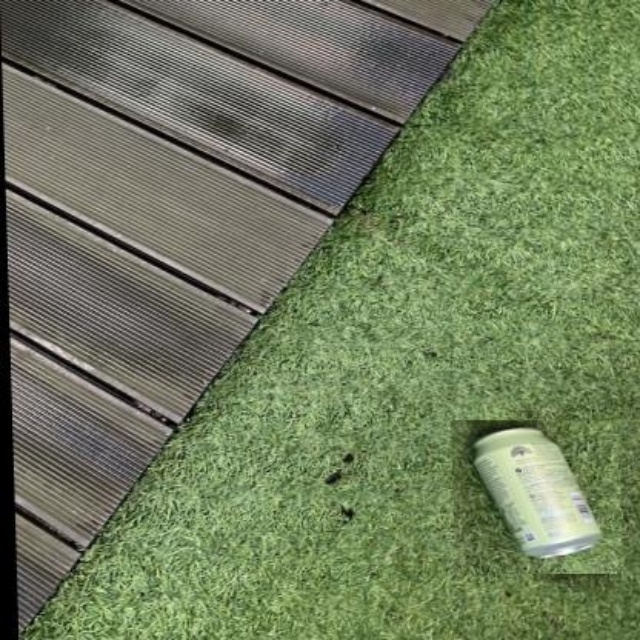trash: (474, 428, 600, 557)
